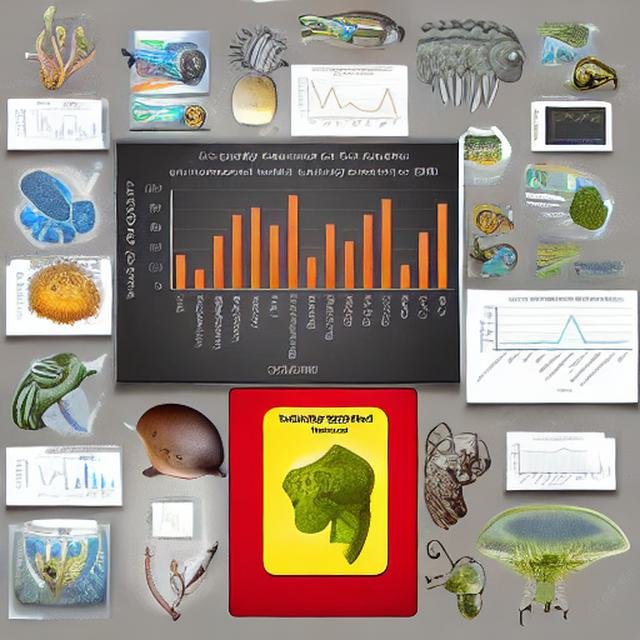Graph: (119, 144, 459, 382), (474, 293, 637, 398), (295, 67, 404, 135), (507, 437, 591, 487), (142, 497, 202, 542), (55, 457, 116, 493), (547, 108, 606, 145), (45, 112, 98, 144)
